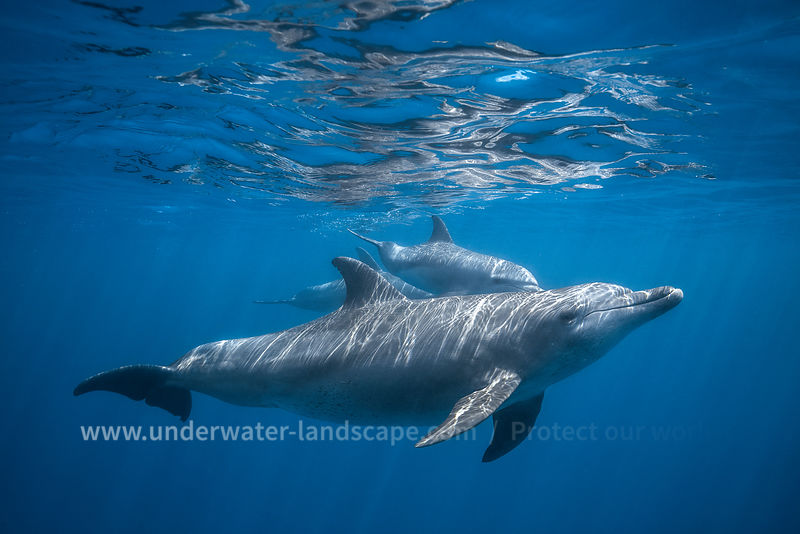dolphin: (80, 280, 698, 450), (328, 221, 555, 301)
